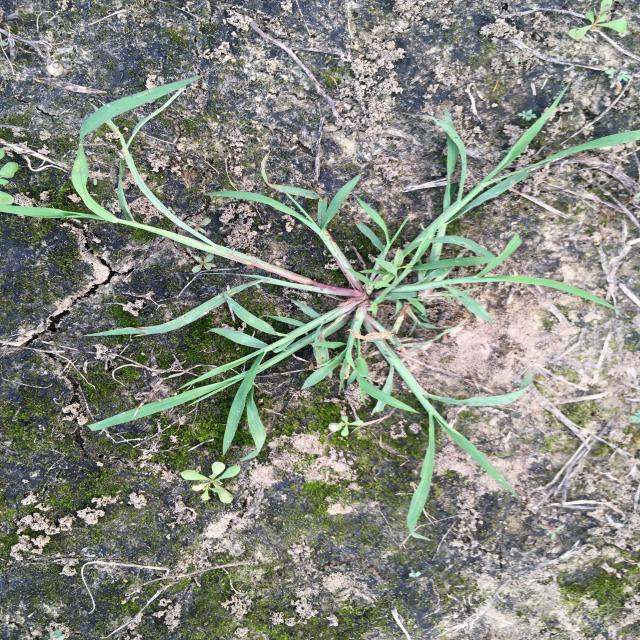Carpetweed: (176, 459, 242, 509)
Goosegrass: (4, 72, 637, 542)
